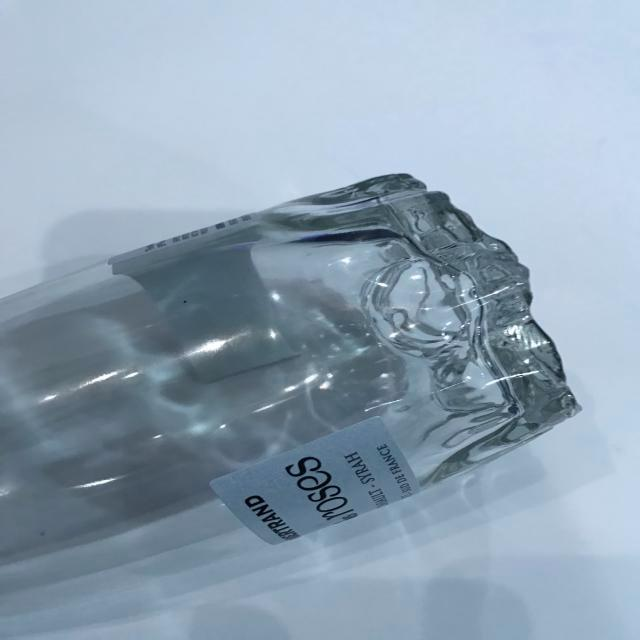glass: (0, 145, 598, 640)
